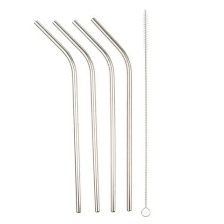drinking_straw: (29, 17, 84, 216)
